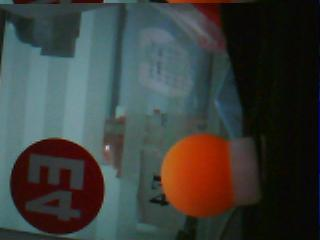oball: (160, 133, 234, 218)
